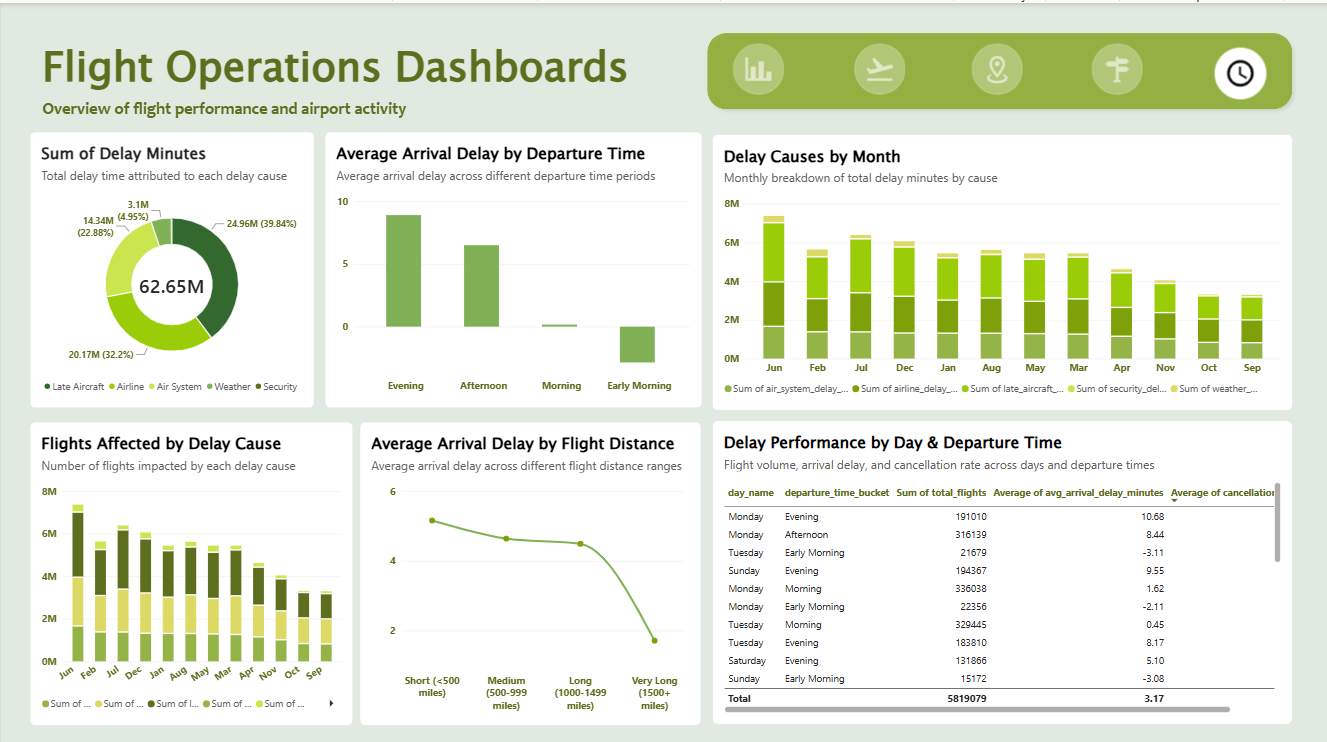

The dashboard page shown, as its layout file describes it:
{"tool":"powerbi","page":{"name":"Delays","canvas":[1920,1080],"ordinal":4},"visuals":[{"type":"actionButton","title":"delay_a","box":[1722.5,58.9,147.5,85],"z":0,"group":"g2"},{"type":"donutChart","title":"Sum of Delay Minutes","fields":{"Category":["vw_delay_cause_overall.delay_cause"],"Y":["Sum(vw_delay_cause_overall.delay_minutes)"]},"box":[42,186,412,400],"z":0},{"type":"columnChart","title":"Flights Affected by Delay Cause","fields":{"Category":["vw_delay_cause_by_month.month_name"],"Y":["Sum(vw_delay_cause_by_month.air_system_delay_minutes)","Sum(vw_delay_cause_by_month.airline_delay_minutes)","Sum(vw_delay_cause_by_month.late_aircraft_delay_minutes)","Sum(vw_delay_cause_by_month.security_delay_minutes)","Sum(vw_delay_cause_by_month.weather_delay_minutes)","Sum(vw_delay_cause_composition_by_airline.air_system_delay_pct)"]},"box":[42,606,468,440],"z":1000},{"type":"actionButton","title":"Route","box":[1542.3,48.5,148,98],"z":2000,"group":"g1"},{"type":"clusteredColumnChart","title":"Average Arrival Delay by Departure Time","fields":{"Category":["vw_day_time_performance.departure_time_bucket"],"Y":["Avg(vw_day_time_performance.avg_arrival_delay_minutes)"]},"box":[468,186,546,400],"z":2000},{"type":"actionButton","title":"airport","box":[1369.3,48.5,148,98],"z":3000,"group":"g1"},{"type":"columnChart","title":"Delay Causes by Month","fields":{"Category":["vw_delay_cause_by_month.month_name"],"Y":["Sum(vw_delay_cause_by_month.air_system_delay_minutes)","Sum(vw_delay_cause_by_month.airline_delay_minutes)","Sum(vw_delay_cause_by_month.late_aircraft_delay_minutes)","Sum(vw_delay_cause_by_month.security_delay_minutes)","Sum(vw_delay_cause_by_month.weather_delay_minutes)"]},"box":[1030,190,840,400],"z":3000},{"type":"actionButton","title":"airplane","box":[1198.9,48.5,148,98],"z":4000,"group":"g1"},{"type":"lineChart","title":"Average Arrival Delay by Flight Distance","fields":{"Category":["vw_distance_bucket_performance.distance_bucket"],"Y":["Avg(vw_distance_bucket_performance.avg_arrival_delay_minutes)"]},"box":[520,606,494,440],"z":4000},{"type":"actionButton","title":"Dash","box":[1023.3,47.9,148,98],"z":5000,"group":"g1"},{"type":"tableEx","title":"Delay Performance by Day & Departure Time","fields":{"Values":["vw_day_time_performance.day_name","vw_day_time_performance.departure_time_bucket","Sum(vw_day_time_performance.total_flights)","Avg(vw_day_time_performance.avg_arrival_delay_minutes)","Avg(vw_day_time_performance.cancellation_rate_pct)"]},"box":[1030,605,840,440],"z":5000},{"type":"shape","box":[1013.8,33.8,865,128.8],"z":6000},{"type":"group","id":"g1","title":"Group_nav_inactive","box":[1023.3,47.9,840,98.6],"z":7000},{"type":"group","id":"g2","title":"Group_nav_active","box":[1045,50.5,825,93.4],"z":8000},{"type":"group","id":"g3","title":"Group 1","box":[60,48,900,122],"z":8001},{"type":"textbox","box":[60,48,900,102],"z":10000,"group":"g3"},{"type":"textbox","box":[60,136,855,34],"z":11000,"group":"g3"}]}

Visuals, with their boxes in screenshot pixels (x1, y1, x2, y2), scaled from the page's 1920x1080 canvas onto the 1327x742 screenshot:
"delay_a" actionButton: rect(1190, 40, 1292, 99)
"Sum of Delay Minutes" donutChart: rect(29, 128, 314, 403)
"Flights Affected by Delay Cause" columnChart: rect(29, 416, 352, 719)
"Route" actionButton: rect(1066, 33, 1168, 101)
"Average Arrival Delay by Departure Time" clusteredColumnChart: rect(323, 128, 701, 403)
"airport" actionButton: rect(946, 33, 1049, 101)
"Delay Causes by Month" columnChart: rect(712, 131, 1292, 405)
"airplane" actionButton: rect(829, 33, 931, 101)
"Average Arrival Delay by Flight Distance" lineChart: rect(359, 416, 701, 719)
"Dash" actionButton: rect(707, 33, 810, 100)
"Delay Performance by Day & Departure Time" tableEx: rect(712, 416, 1292, 718)
shape: rect(701, 23, 1299, 112)
"Group_nav_inactive" group: rect(707, 33, 1288, 101)
"Group_nav_active" group: rect(722, 35, 1292, 99)
"Group 1" group: rect(41, 33, 664, 117)
textbox: rect(41, 33, 664, 103)
textbox: rect(41, 93, 632, 117)
